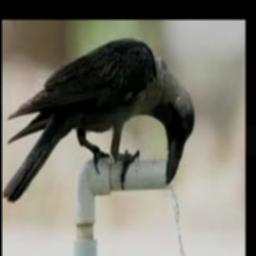Crow: (4, 38, 195, 203)
